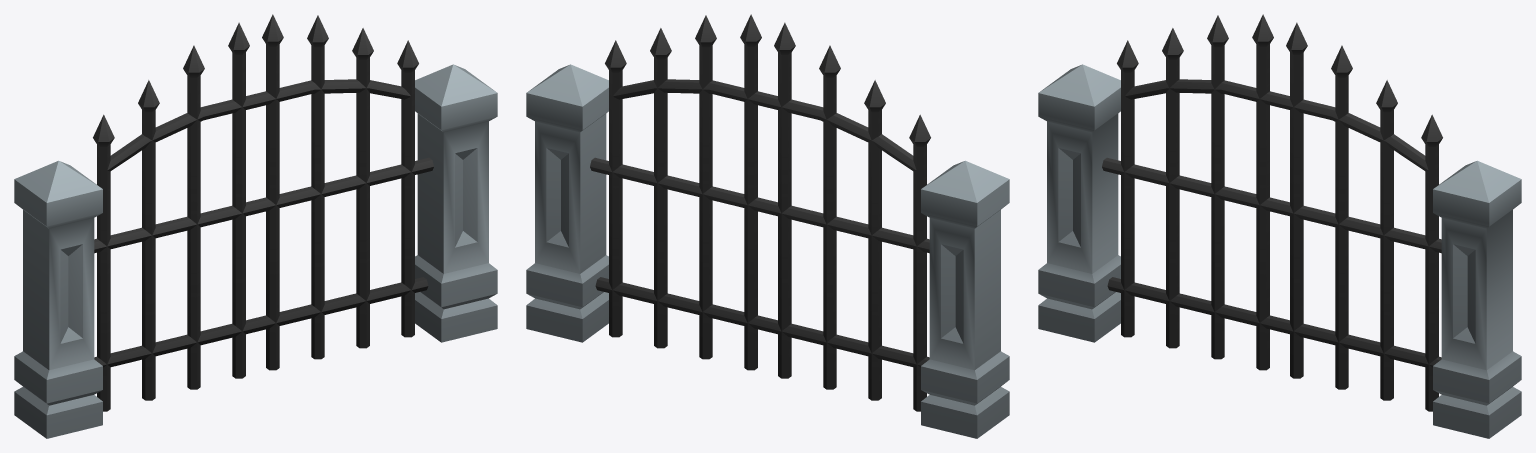
Rendered from fence_gate.glb.
3 renders of one model, left to right at view 1: azimuth 30°, elevation 25°; view 2: azimuth 150°, elevation 25°; view 3: azimuth 330°, elevation 25°, orthographic.
Parts seen in each view (by area): view 1: fence_gate, fence_gate_left, fence_gate_right; view 2: fence_gate, fence_gate_left, fence_gate_right; view 3: fence_gate, fence_gate_right, fence_gate_left.
Part boxes in pixels (bbox=[...]): fence_gate: bbox=[14, 64, 497, 438]; fence_gate_left: bbox=[254, 14, 433, 370]; fence_gate_right: bbox=[93, 22, 259, 411]; fence_gate: bbox=[526, 64, 1009, 438]; fence_gate_left: bbox=[590, 14, 769, 370]; fence_gate_right: bbox=[764, 22, 930, 411]; fence_gate: bbox=[1038, 64, 1521, 438]; fence_gate_right: bbox=[1102, 14, 1281, 370]; fence_gate_left: bbox=[1276, 22, 1442, 411].
Size of the model in its own units: 4 by 3 by 0.5.
Materials: 1 (1 with a texture image).
